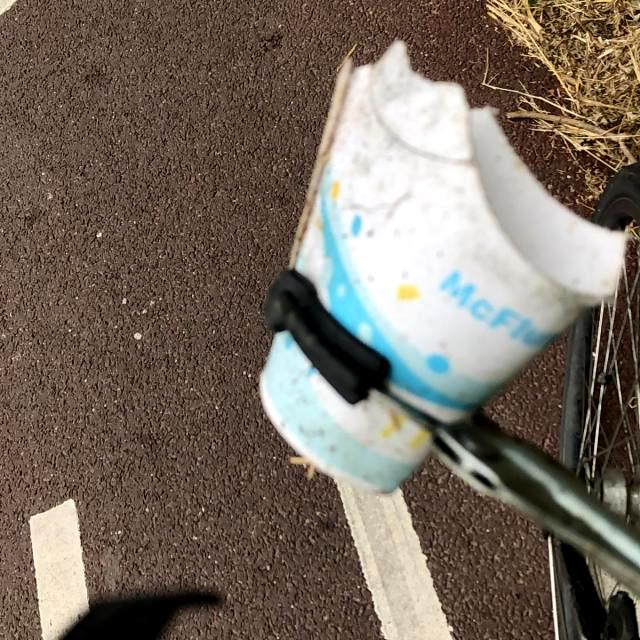Paper: (254, 34, 628, 503)
